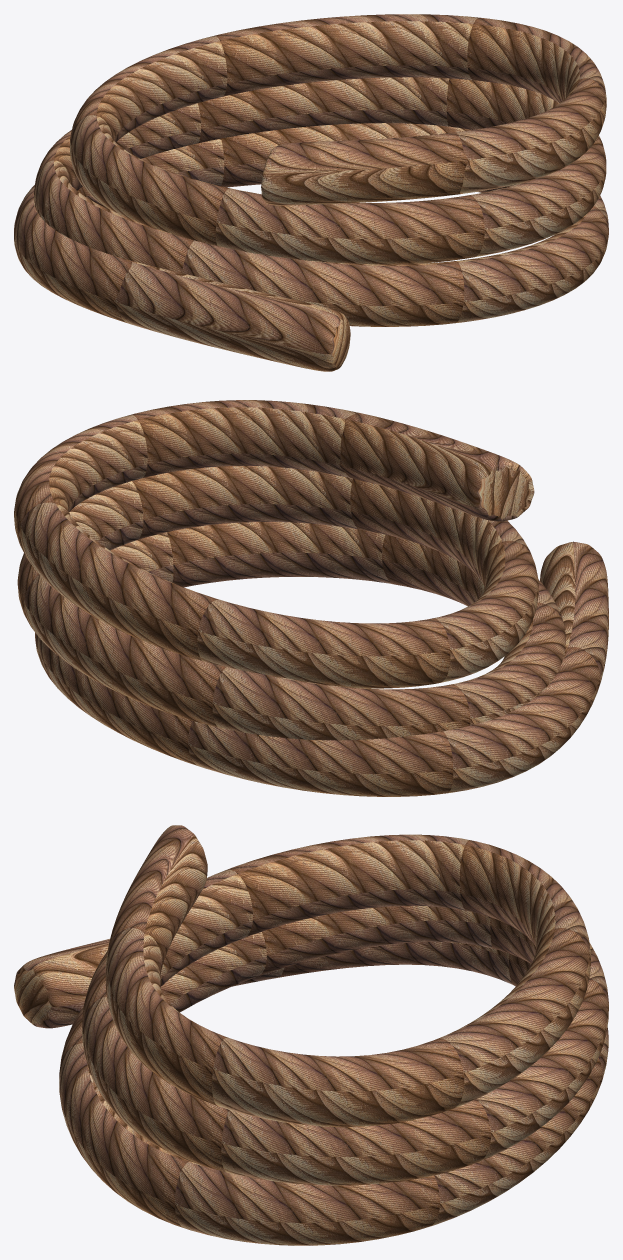
Rendered from rope.fbx.
The picture shows the model from 3 angles, top to bottom: view 1: azimuth 30°, elevation 25°; view 2: azimuth 150°, elevation 25°; view 3: azimuth 270°, elevation 25°; orthographic projection. The views are drawn at different scales.
Parts seen in each view (by area): view 1: Cylinder; view 2: Cylinder; view 3: Cylinder.
Boxes of the visible parts, x1,y1,x2,y2 form: Cylinder: [14, 14, 608, 371]; Cylinder: [14, 400, 608, 796]; Cylinder: [14, 825, 608, 1245].
Bounding box in the file's own units: 35.44 × 12.84 × 30.46.
Materials: 1 (1 with a texture image).
